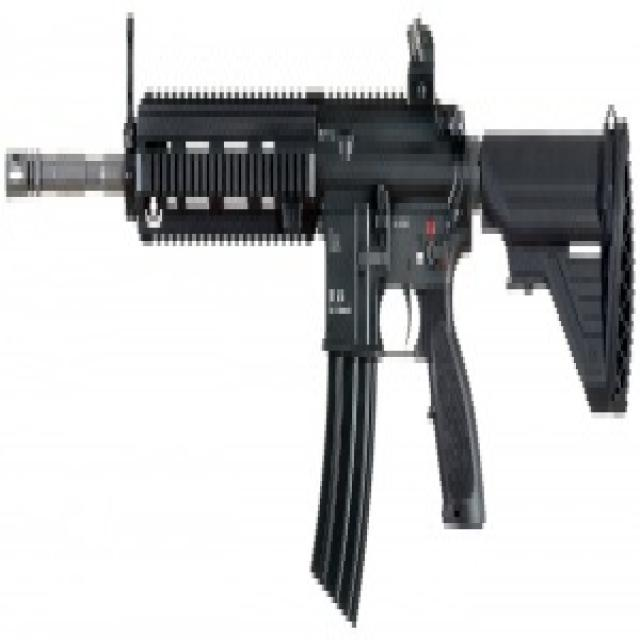rifle: (5, 1, 640, 626)
